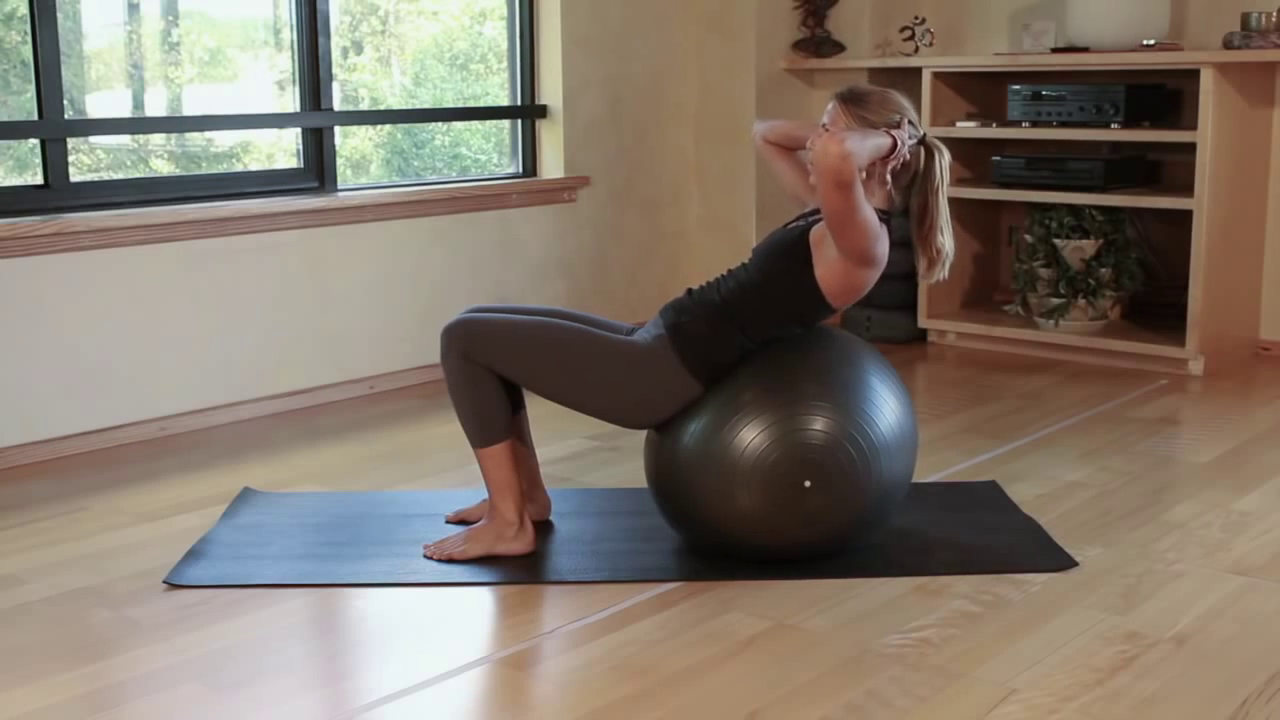yogaball: (642, 324, 923, 562)
